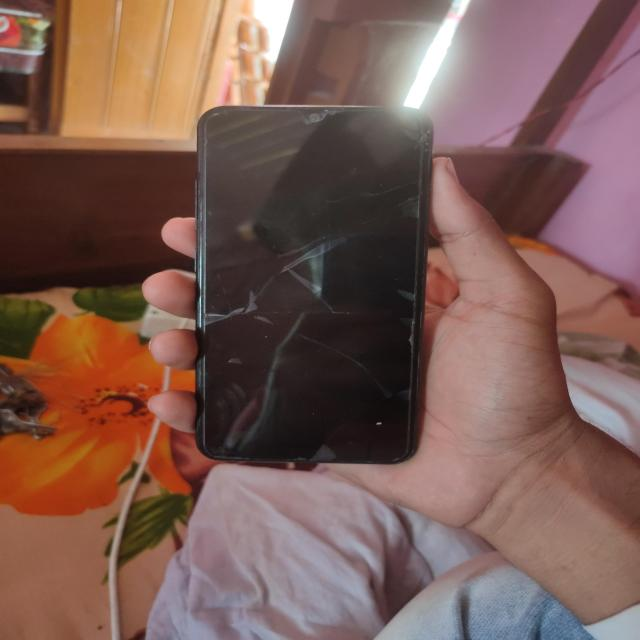mobile: (109, 60, 488, 483)
